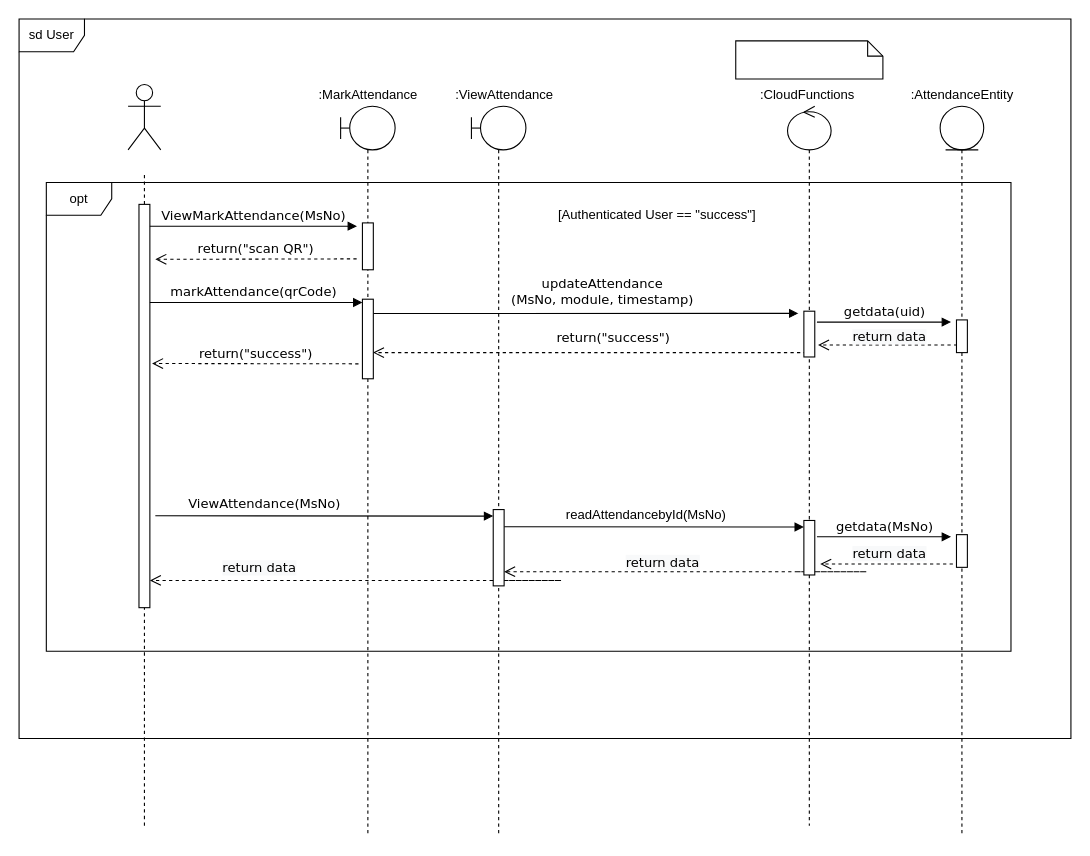
Image size: 1090x856. Some labels were removed from this diagram. Each missing label, with the centre of its shape:
"Cloud function Backend REST API" goes at pixel 809 59.
"SLIIT Student" goes at pixel 144 116.
